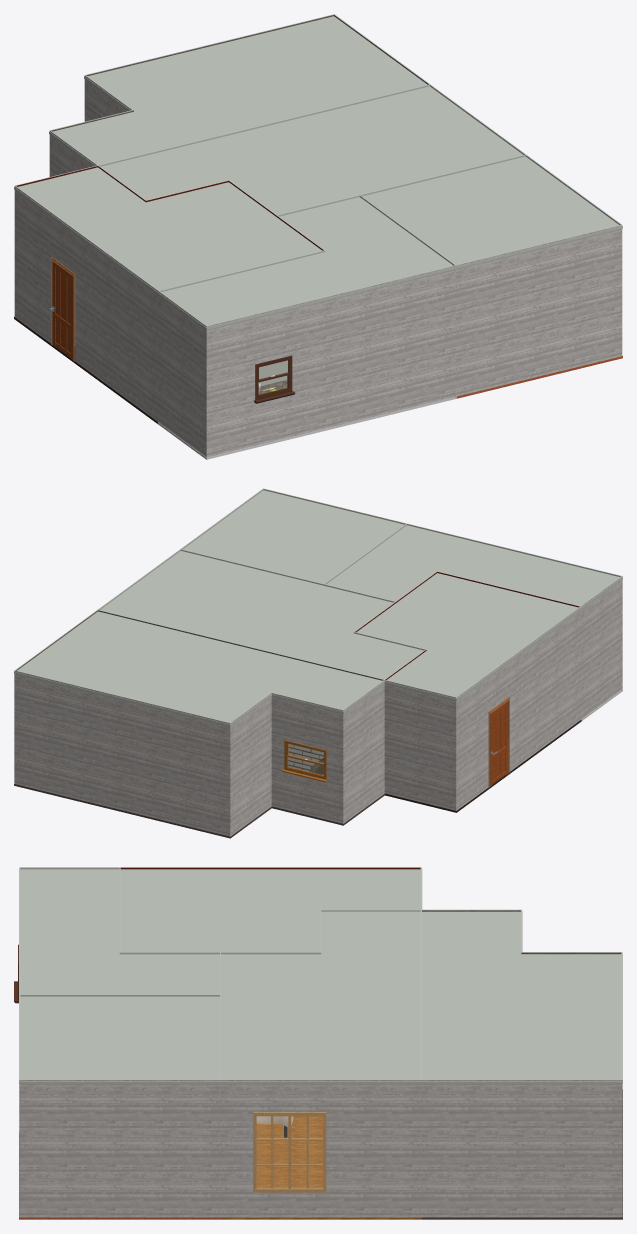
The model's file is ProcTHOR-Train-190.glb.
The picture shows the model from 3 angles, top to bottom: view 1: azimuth 30°, elevation 25°; view 2: azimuth 150°, elevation 25°; view 3: azimuth 270°, elevation 25°; orthographic projection. The views are drawn at different scales.
Parts seen in each view (by area): view 1: WallInside#wall|exterior|4.18|12.53|10.44|12.53, Ceiling#room|6|c, Ceiling#room|5|c, WallInside#wall|exterior|0.00|12.53|4.18|12.53, Ceiling#room|4|c, WallInside#wall|exterior|10.44|4.18|10.44|10.44, Ceiling#room|2|c, Ceiling#room|3|c, WallInside#wall|exterior|10.44|10.44|10.44|12.53, Doorway_10, WallInside#wall|exterior|6.27|0.00|6.27|2.09, WallInside#wall|exterior|8.36|2.09|8.36|4.18 (+4 smaller); view 2: WallInside#wall|exterior|0.00|0.00|6.27|0.00, Ceiling#room|6|c, Ceiling#room|5|c, Ceiling#room|4|c, WallInside#wall|exterior|10.44|4.18|10.44|10.44, Ceiling#room|2|c, Ceiling#room|3|c, WallInside#wall|exterior|8.36|4.18|10.44|4.18, WallInside#wall|exterior|6.27|2.09|8.36|2.09, WallInside#wall|exterior|10.44|10.44|10.44|12.53, WallInside#wall|exterior|6.27|0.00|6.27|2.09, WallInside#wall|exterior|8.36|2.09|8.36|4.18 (+5 smaller); view 3: Ceiling#room|6|c, Ceiling#room|5|c, WallInside#wall|exterior|0.00|0.00|0.00|4.18, WallInside#wall|exterior|0.00|8.36|0.00|12.53, WallInside#wall|exterior|0.00|4.18|0.00|8.36, Ceiling#room|4|c, Ceiling#room|3|c, Ceiling#room|2|c, Floor#room|5|f, Window_Fixed_60x72, WallInside#wall|4|10.44|4.18|10.44|10.44, Floor#room|6|f (+2 smaller).
Boxes of the visible parts, x1,y1,x2,y2 form: WallInside#wall|exterior|4.18|12.53|10.44|12.53: (206, 265, 455, 457); Ceiling#room|6|c: (49, 16, 429, 166); Ceiling#room|5|c: (101, 86, 524, 216); WallInside#wall|exterior|0.00|12.53|4.18|12.53: (455, 225, 622, 396); Ceiling#room|4|c: (14, 167, 321, 294); WallInside#wall|exterior|10.44|4.18|10.44|10.44: (14, 186, 158, 421); Ceiling#room|2|c: (157, 197, 456, 329); Ceiling#room|3|c: (362, 156, 622, 268); WallInside#wall|exterior|10.44|10.44|10.44|12.53: (158, 291, 206, 457); Doorway_10: (50, 256, 75, 361); WallInside#wall|exterior|6.27|0.00|6.27|2.09: (84, 75, 132, 121); WallInside#wall|exterior|8.36|2.09|8.36|4.18: (49, 130, 97, 176); WallInside#wall|exterior|0.00|0.00|6.27|0.00: (14, 670, 230, 836); Ceiling#room|6|c: (14, 611, 384, 726); Ceiling#room|5|c: (99, 551, 425, 679); Ceiling#room|4|c: (356, 573, 581, 700); WallInside#wall|exterior|10.44|4.18|10.44|10.44: (456, 606, 580, 810); Ceiling#room|2|c: (326, 525, 622, 608); Ceiling#room|3|c: (183, 490, 404, 583); WallInside#wall|exterior|8.36|4.18|10.44|4.18: (384, 680, 456, 810); WallInside#wall|exterior|6.27|2.09|8.36|2.09: (271, 693, 343, 823); WallInside#wall|exterior|10.44|10.44|10.44|12.53: (580, 576, 622, 719); WallInside#wall|exterior|6.27|0.00|6.27|2.09: (230, 693, 271, 836); WallInside#wall|exterior|8.36|2.09|8.36|4.18: (343, 680, 384, 823); Ceiling#room|6|c: (420, 911, 622, 1083); Ceiling#room|5|c: (219, 911, 422, 1083); WallInside#wall|exterior|0.00|0.00|0.00|4.18: (420, 1079, 622, 1217); WallInside#wall|exterior|0.00|8.36|0.00|12.53: (19, 1079, 220, 1217); WallInside#wall|exterior|0.00|4.18|0.00|8.36: (220, 1079, 421, 1217); Ceiling#room|4|c: (120, 869, 422, 953); Ceiling#room|3|c: (19, 996, 221, 1083); Ceiling#room|2|c: (19, 869, 221, 996); Floor#room|5|f: (220, 1116, 422, 1219); Window_Fixed_60x72: (253, 1112, 326, 1192); WallInside#wall|4|10.44|4.18|10.44|10.44: (120, 867, 420, 869); Floor#room|6|f: (421, 1089, 622, 1219).
Size of what is drawn, in the model's own units: 10.61 by 3.21 by 12.67.
357 materials, 159 textured.
